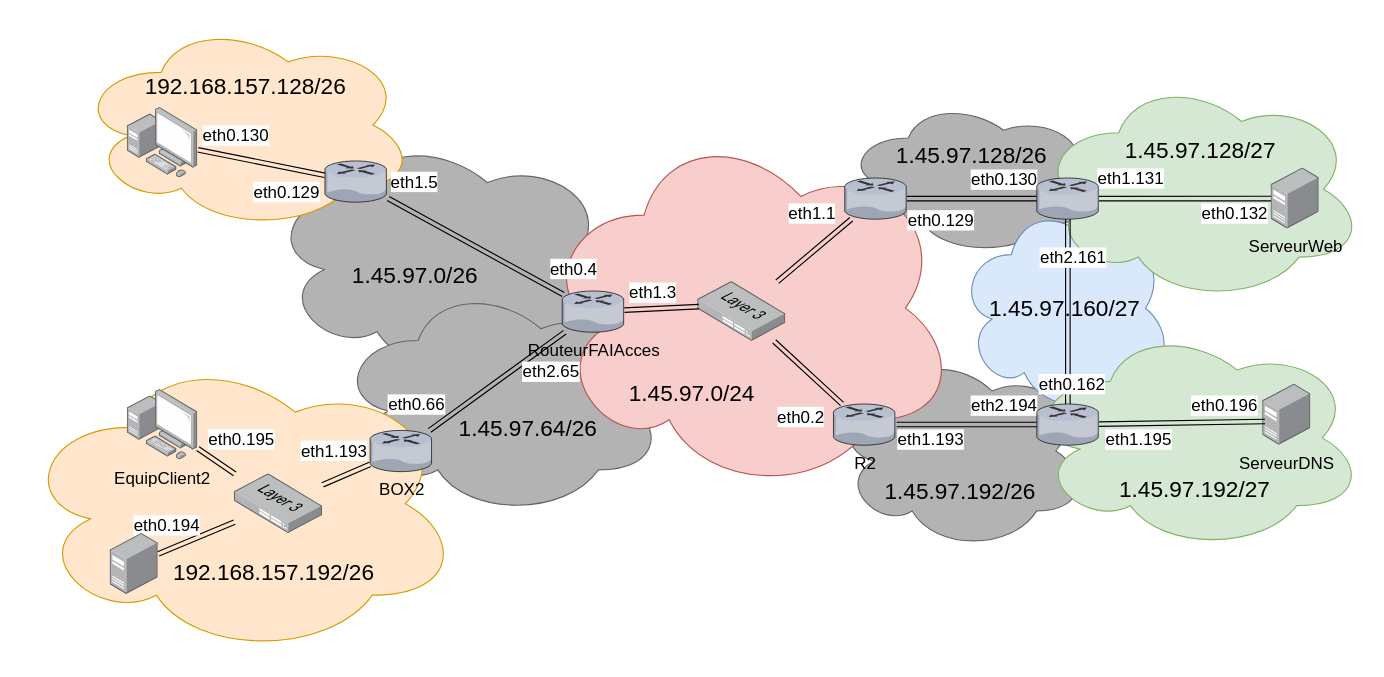
This 1384x677 diagram has some shape labels left out. The shapes that lost their labels are listed below. From the top down, each one's centre as x and y in pixels, then its label:
At (162,142): "EquipClient1".
At (355,181): "BOX1".
At (875,198): "R1".
At (1067,198): "RouteurServices".
At (741,311): "Switch2".
At (1067,424): "RouterServicesReseaux".
At (278,503): "Switch3".
At (134,563): "ServeurWebUser".
